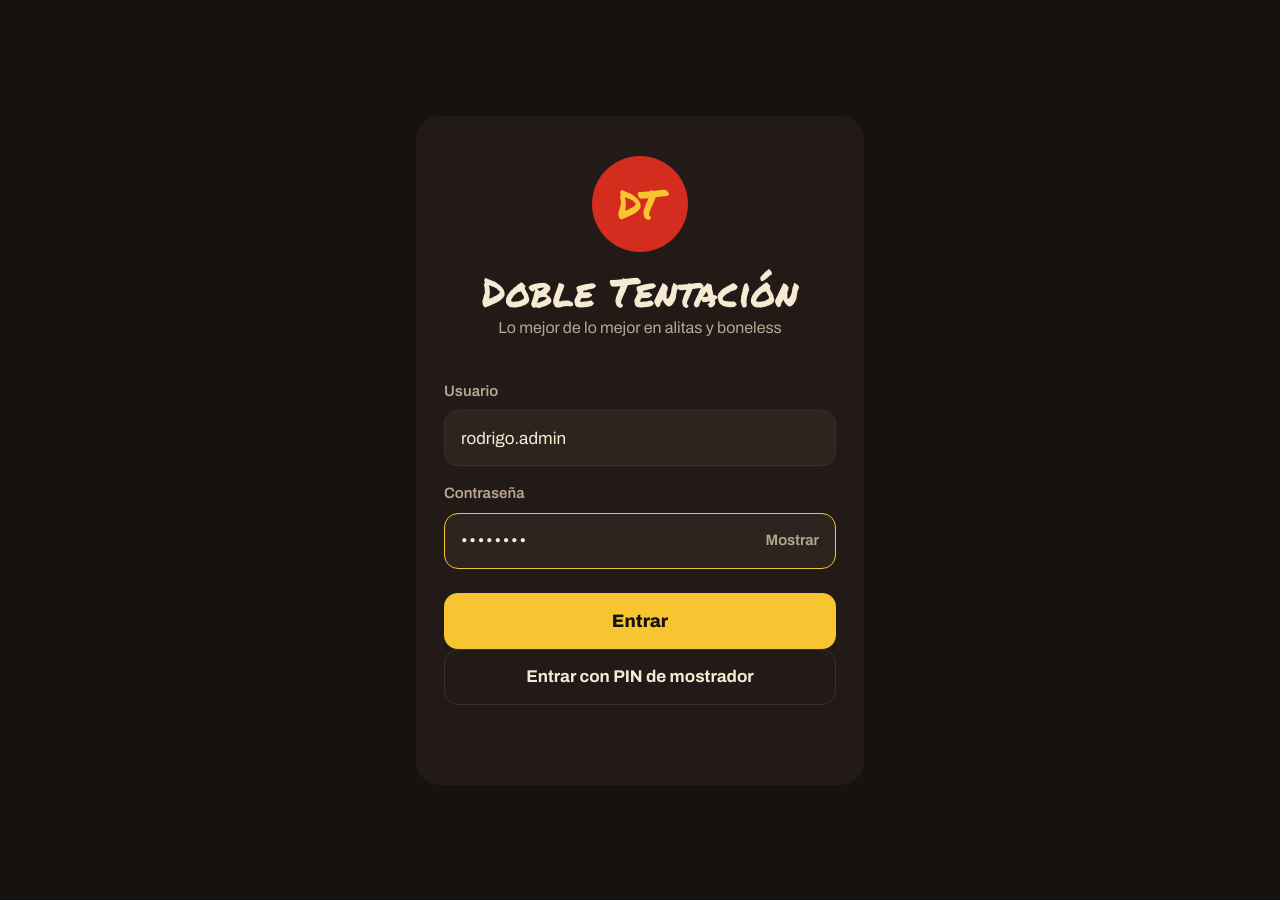
it: App › adds a product from the menu and lists it
This screenshot has width=1280, height=900.
Click the button "Entrar" at (640, 620), box [444,592,836,648]
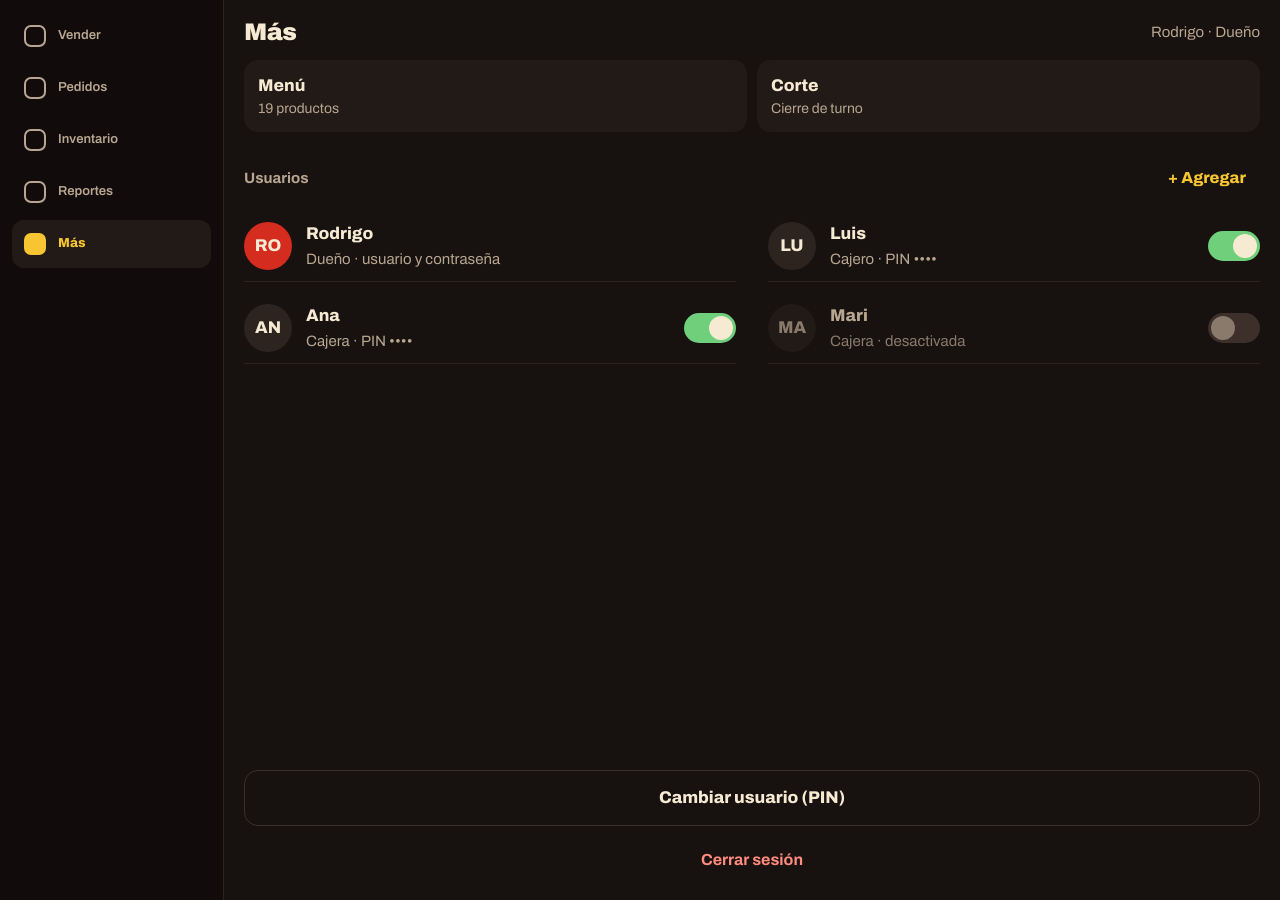
Click the text "Menú" at (282, 86), box [258,73,306,99]
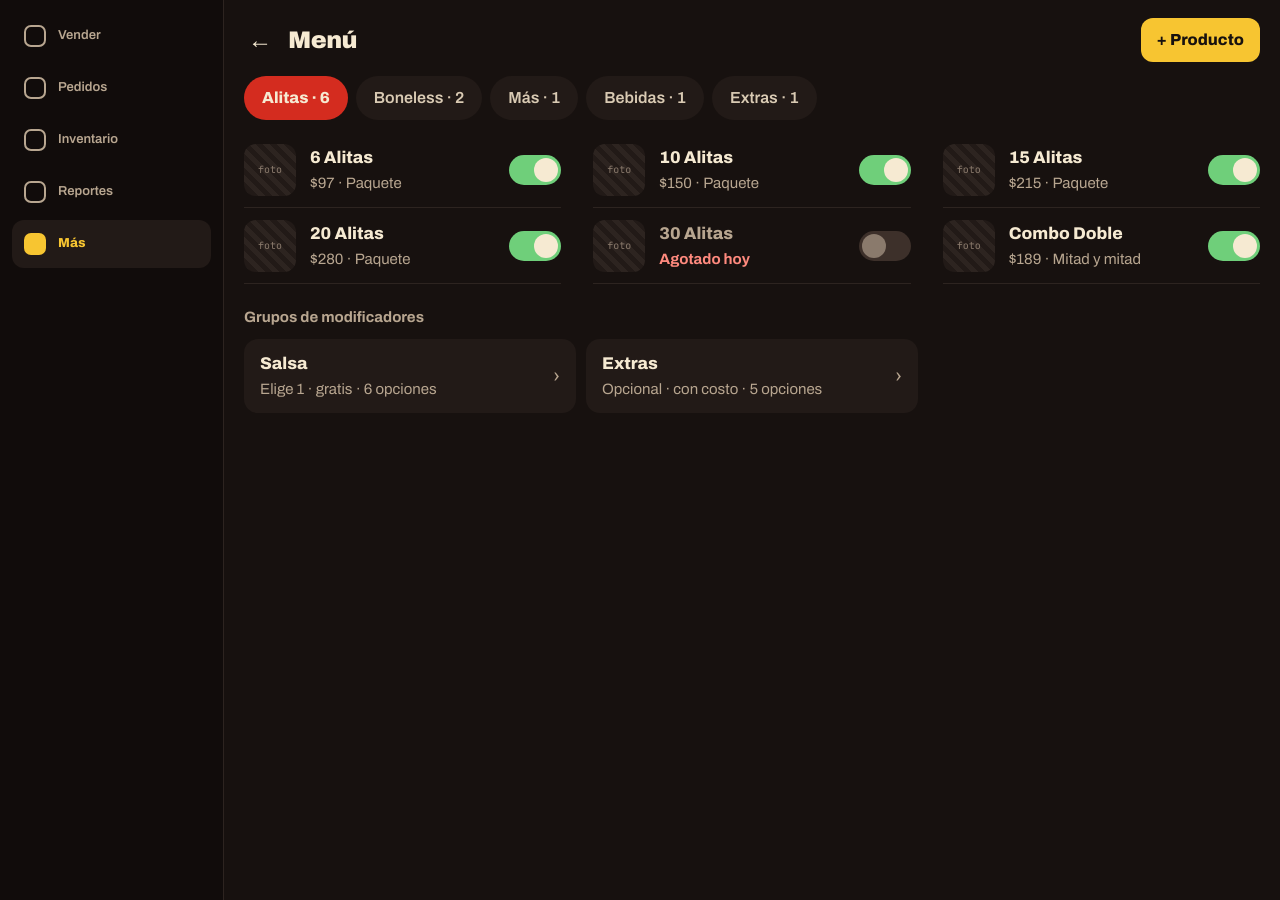
Click the button "+ Producto" at (1200, 40), box [1141,18,1260,62]
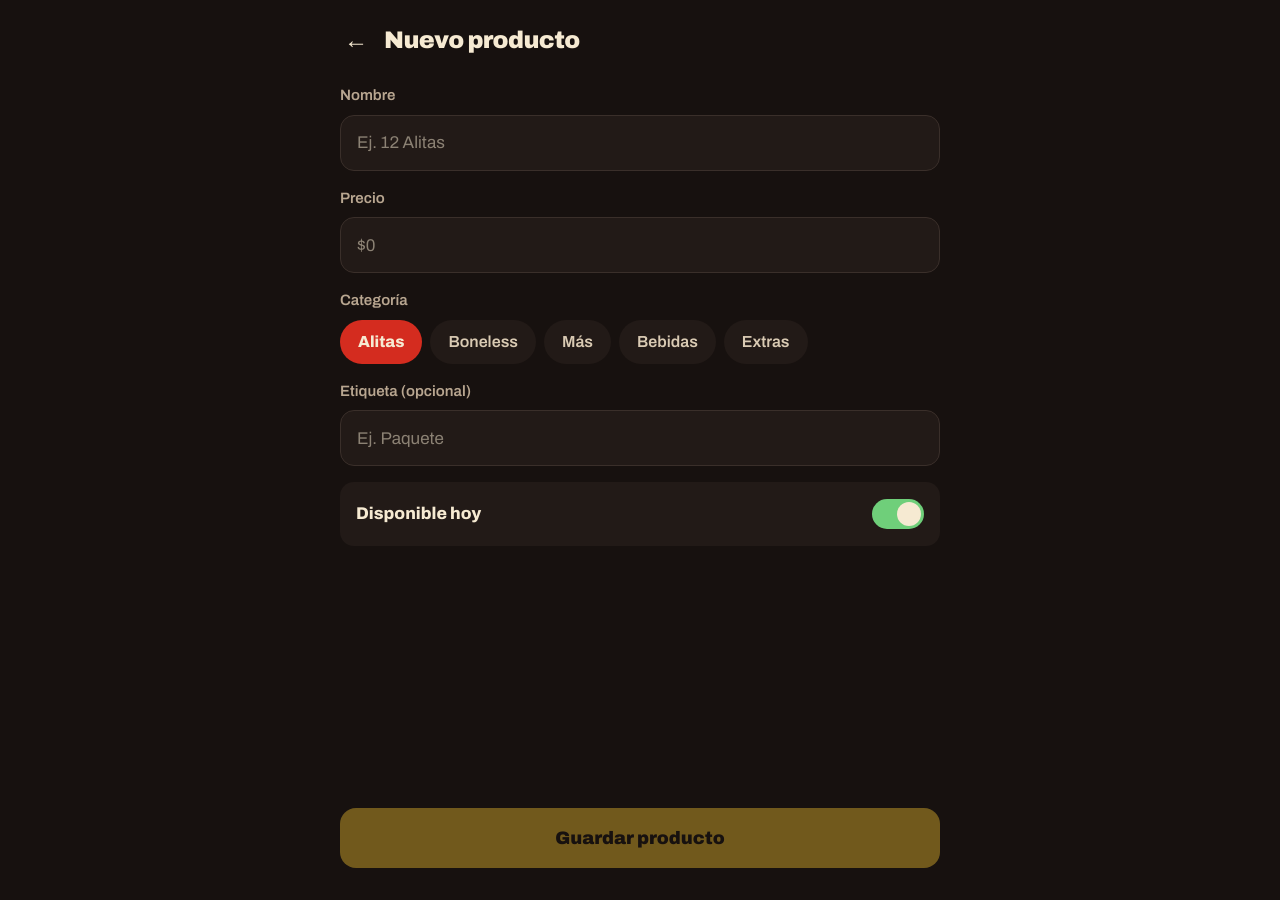
Type "12 Alitas" into the field with placeholder "Ej. 12 Alitas" at (640, 142), box [340,114,940,170]
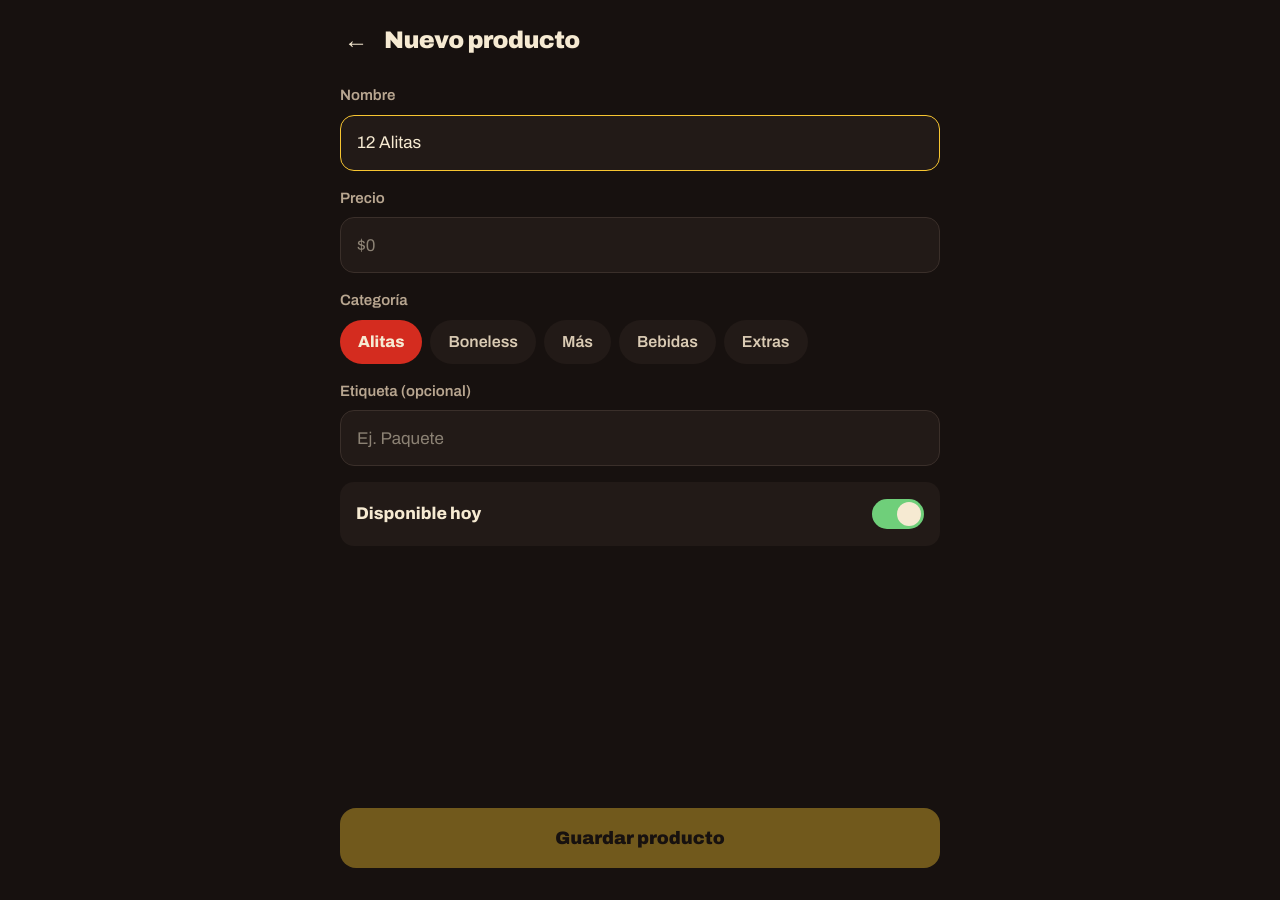
Type "120" into the number field with placeholder "$0" at (640, 245), box [340,217,940,273]
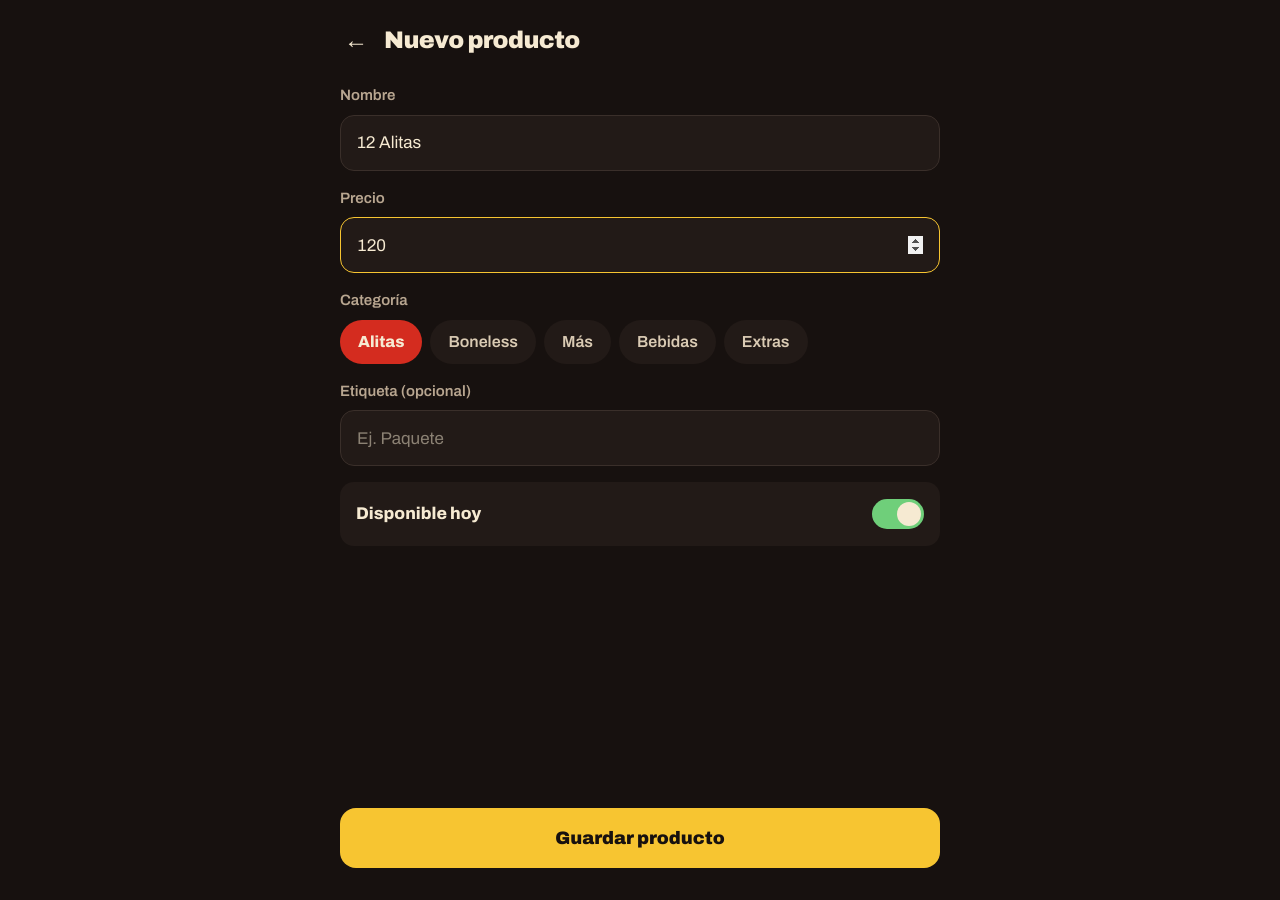
Click the button "Guardar producto" at (640, 838), box [340,808,940,868]
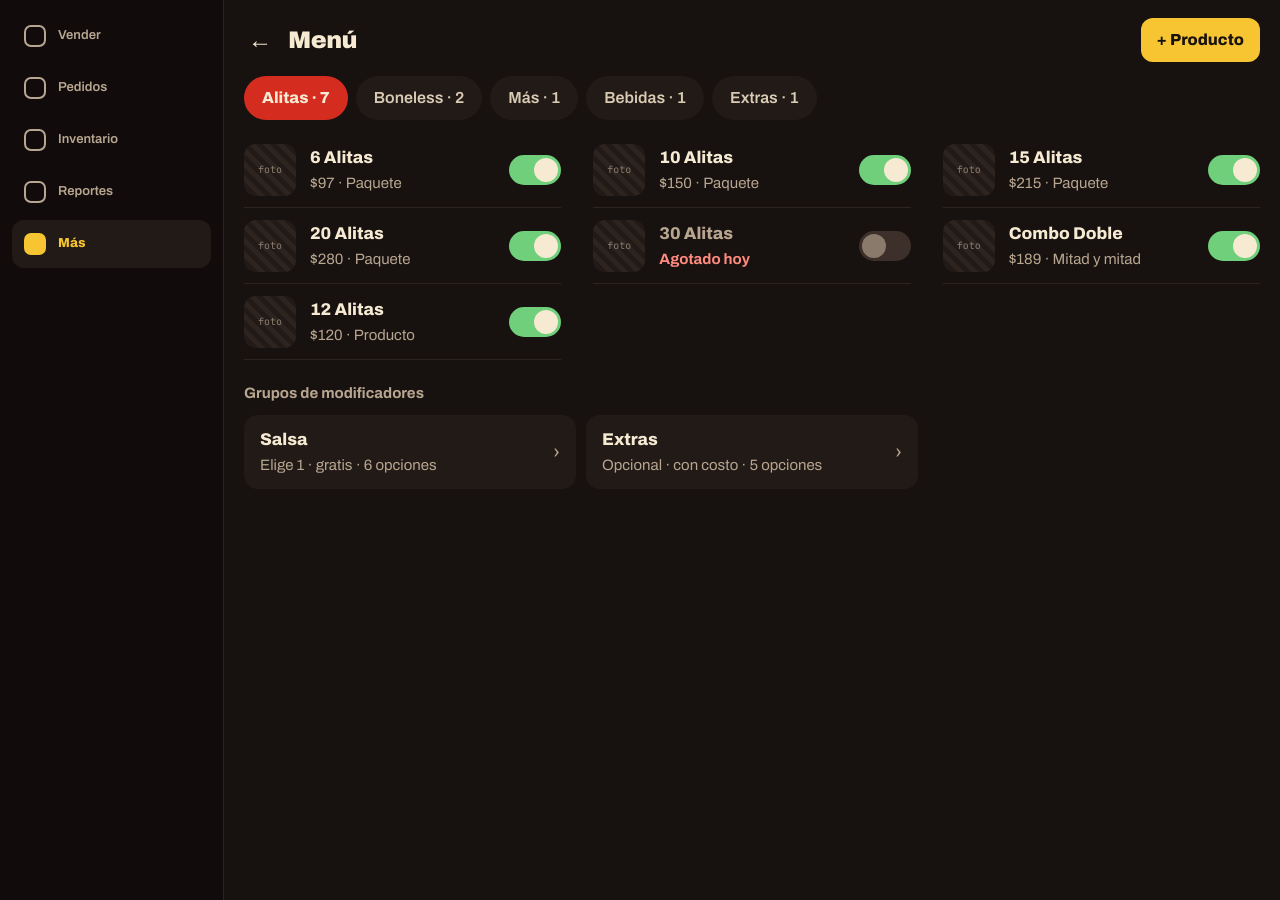
Expected: the text "12 Alitas" is shown, [310,300,384,318]
